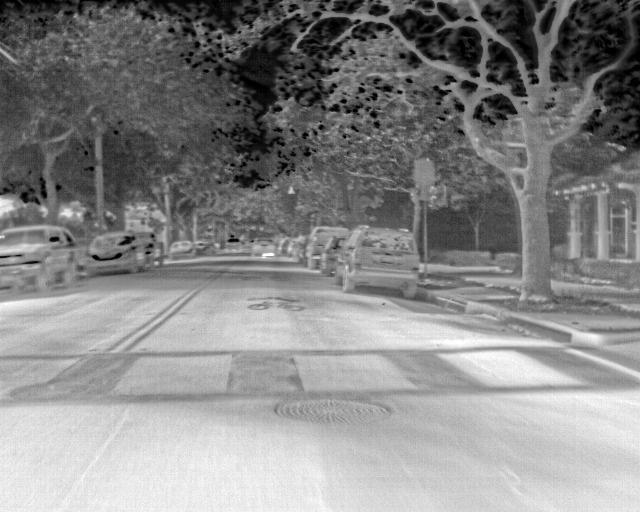car: (339, 224, 420, 300), (0, 222, 81, 297), (84, 229, 146, 276), (305, 224, 350, 268), (134, 229, 164, 269), (320, 235, 339, 278), (250, 236, 276, 259), (169, 240, 196, 260), (291, 236, 307, 262), (193, 239, 216, 256), (280, 237, 295, 255), (225, 237, 242, 251)
